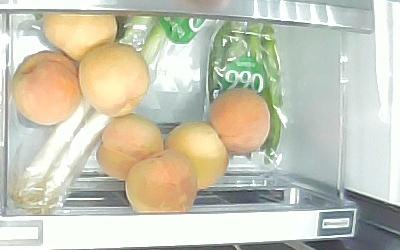peach: (78, 43, 150, 115), (11, 51, 80, 125), (97, 115, 165, 179), (126, 150, 196, 210), (165, 123, 228, 188), (209, 89, 270, 154), (43, 16, 117, 61)
